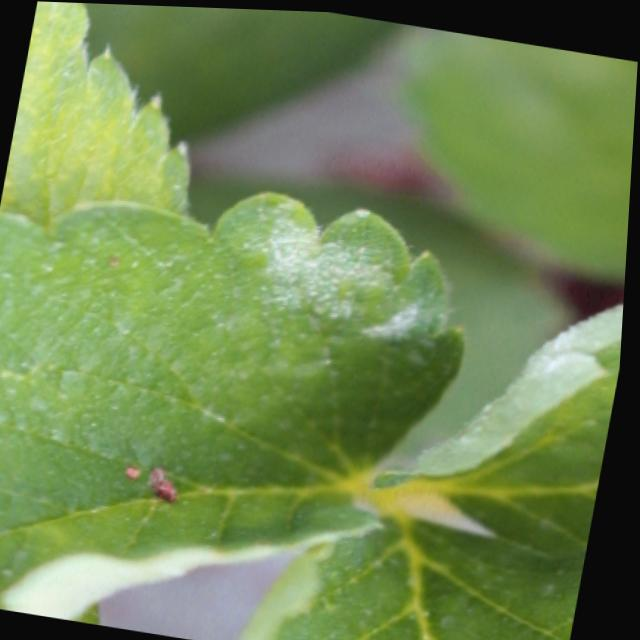Powdery Mildew Leaf: (0, 187, 474, 620), (377, 293, 627, 554)
